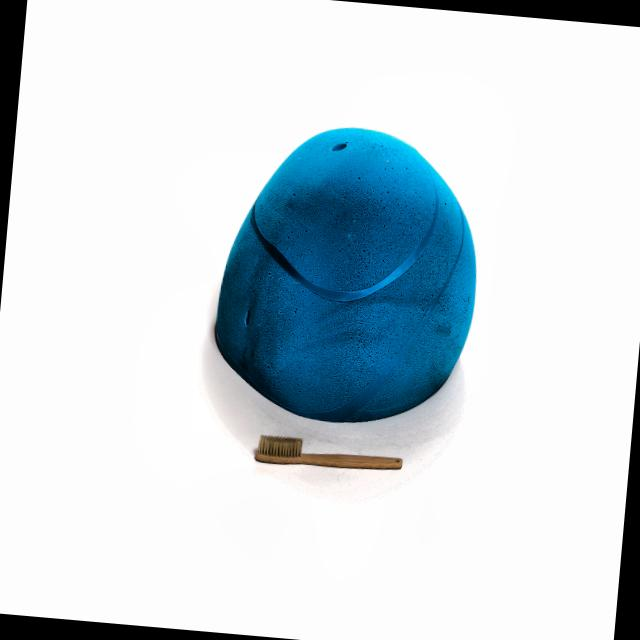Hold: (196, 112, 492, 440)
